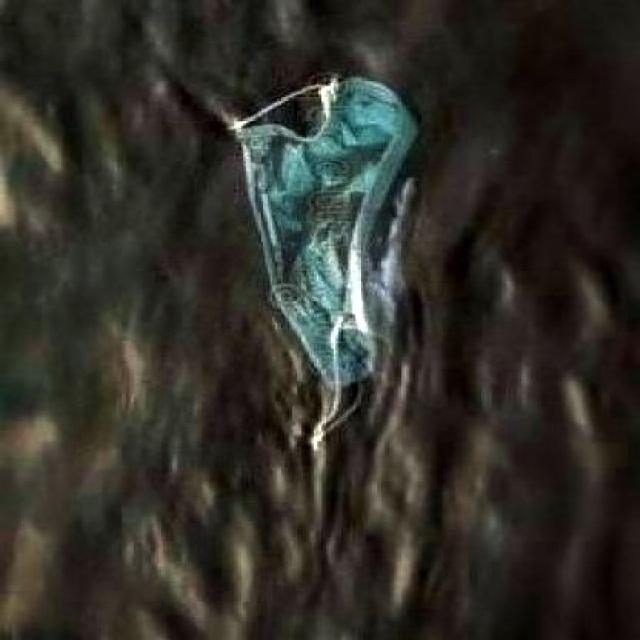Mask: (209, 70, 426, 448)
